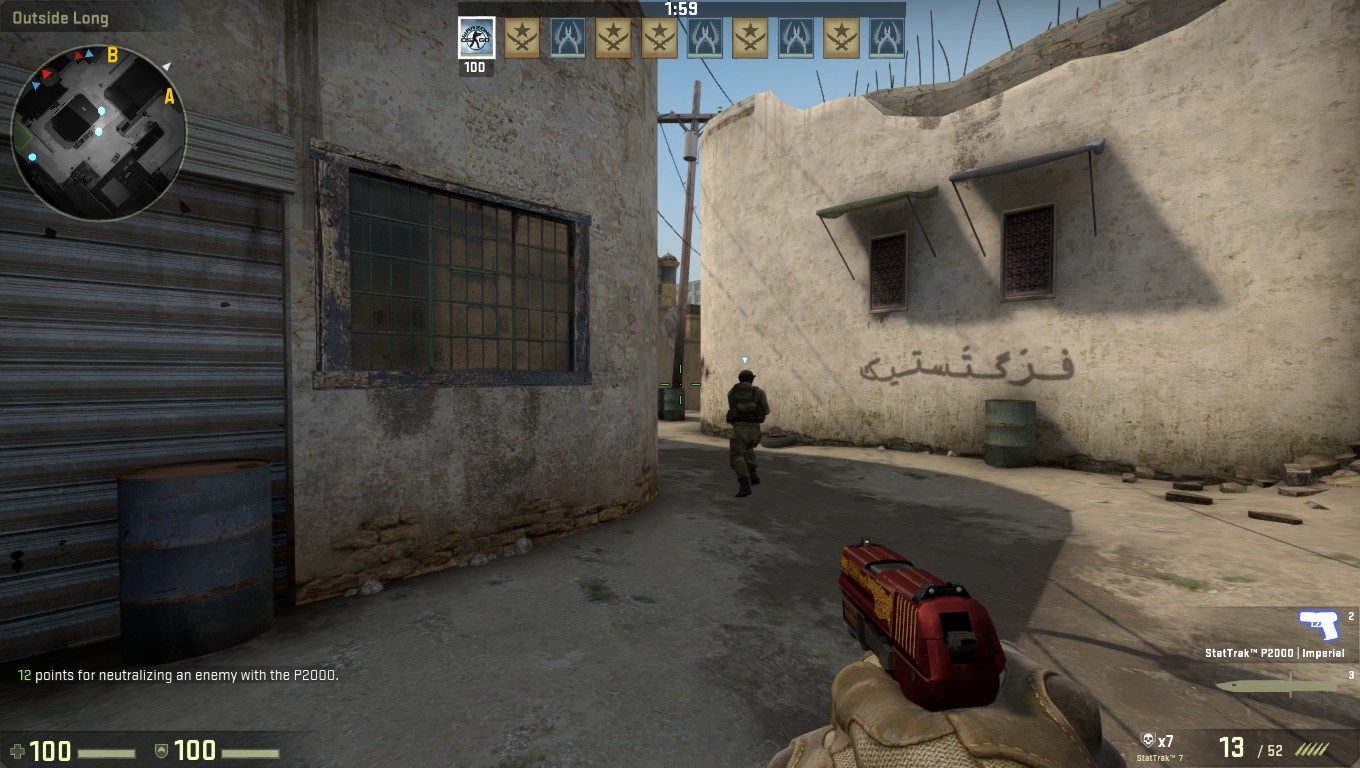c: (727, 367, 770, 498)
ch: (735, 368, 760, 388)
